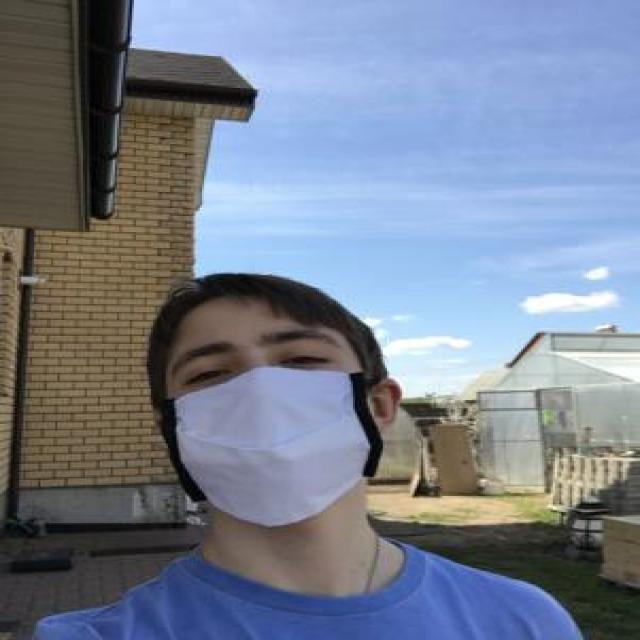with_mask: (160, 325, 384, 528)
